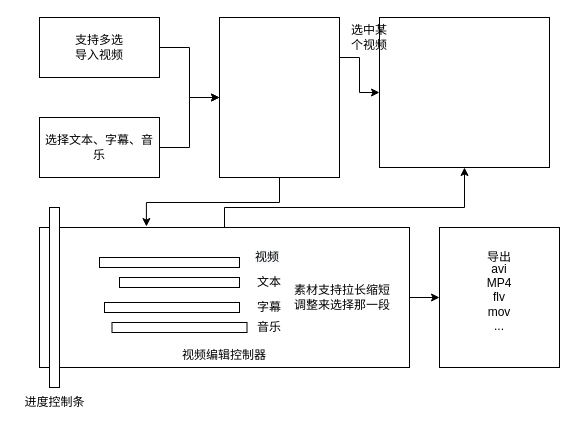
This 577x445 diagram has some shape labels left out. Here are the shapes that lost their labels. From the top down, the centre of each, then its label:
[279,97]: 展示视频封面图、名称 文本 字幕 音乐素材选择 将以上拖拽到视频编辑控制器中
[464,92]: 视频预览区 （视频播放器）
